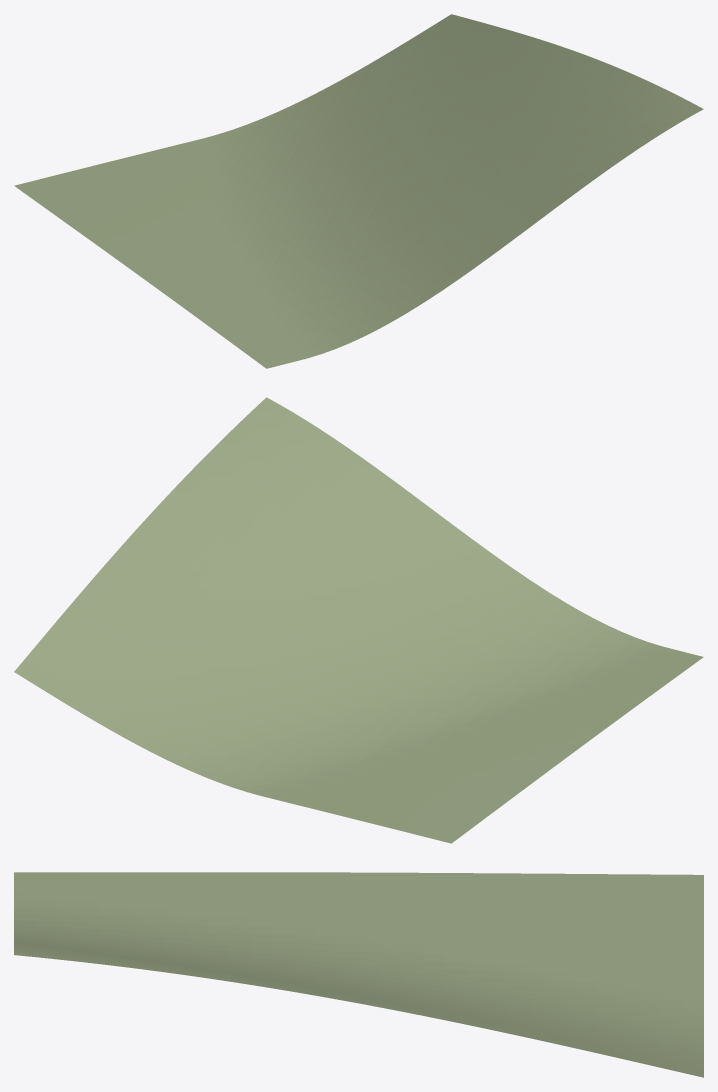
File: desert-18-16.glb
3 views of the same model, one above another, from view 1: azimuth 30°, elevation 25°; view 2: azimuth 150°, elevation 25°; view 3: azimuth 270°, elevation 25° (orthographic). The views are drawn at different scales.
Parts seen in each view (by area): view 1: desert-18-16; view 2: desert-18-16; view 3: desert-18-16.
Part boxes in pixels (left/top/right/bottom): desert-18-16: left=14, top=14, right=703, bottom=368; desert-18-16: left=14, top=397, right=703, bottom=843; desert-18-16: left=14, top=872, right=703, bottom=1077.
Size of the model in its own units: 512 by 173 by 512.
